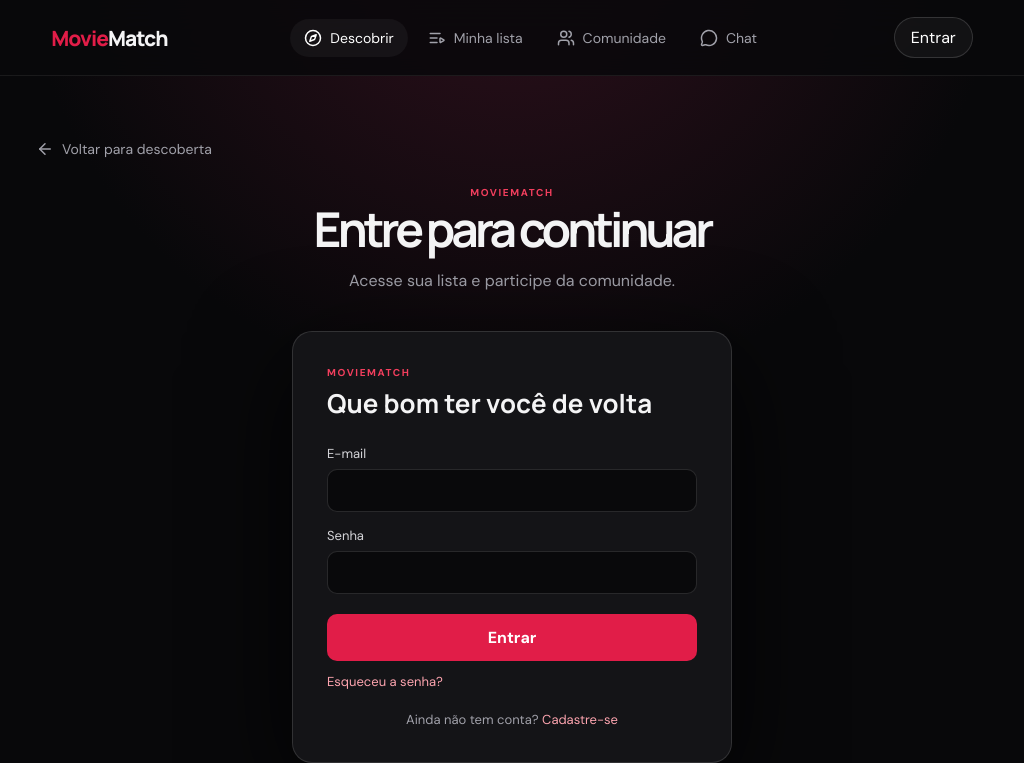
Test case: MovieMatch home › returns to the requested same-site page after login
This screenshot has width=1024, height=763.
Type "alice@example.com" into the field labelled "E-mail" at x=512, y=490, box [327,469,697,512]
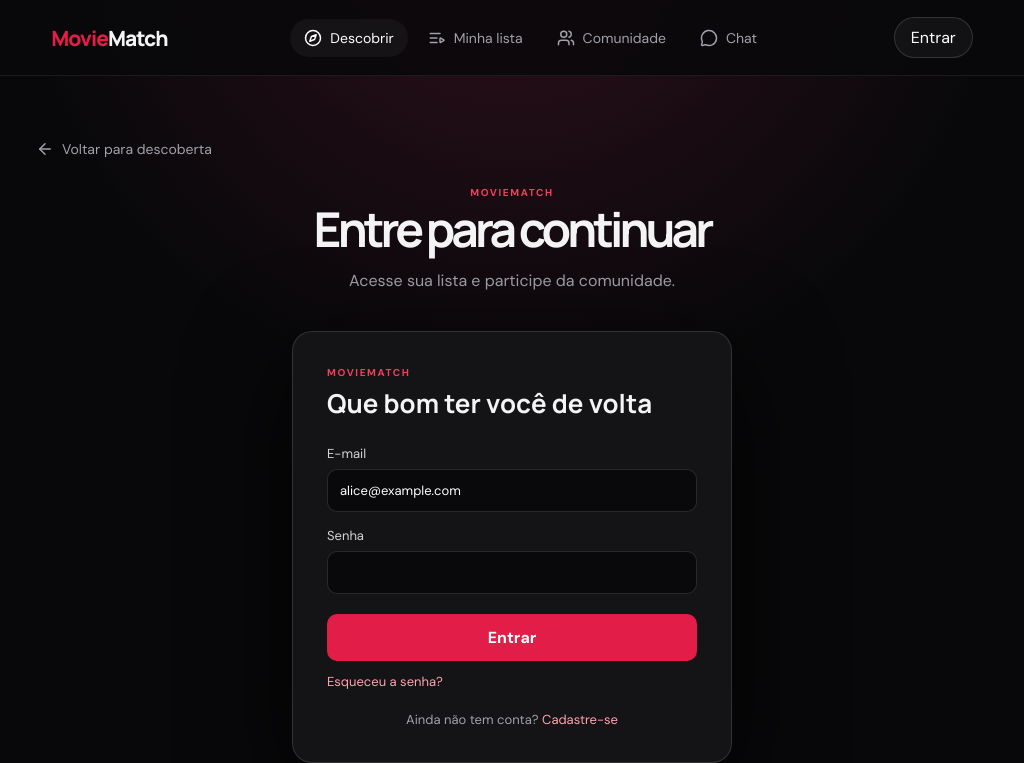
Type "correct-password" into the password field labelled "Senha" at x=512, y=572, box [327,551,697,594]
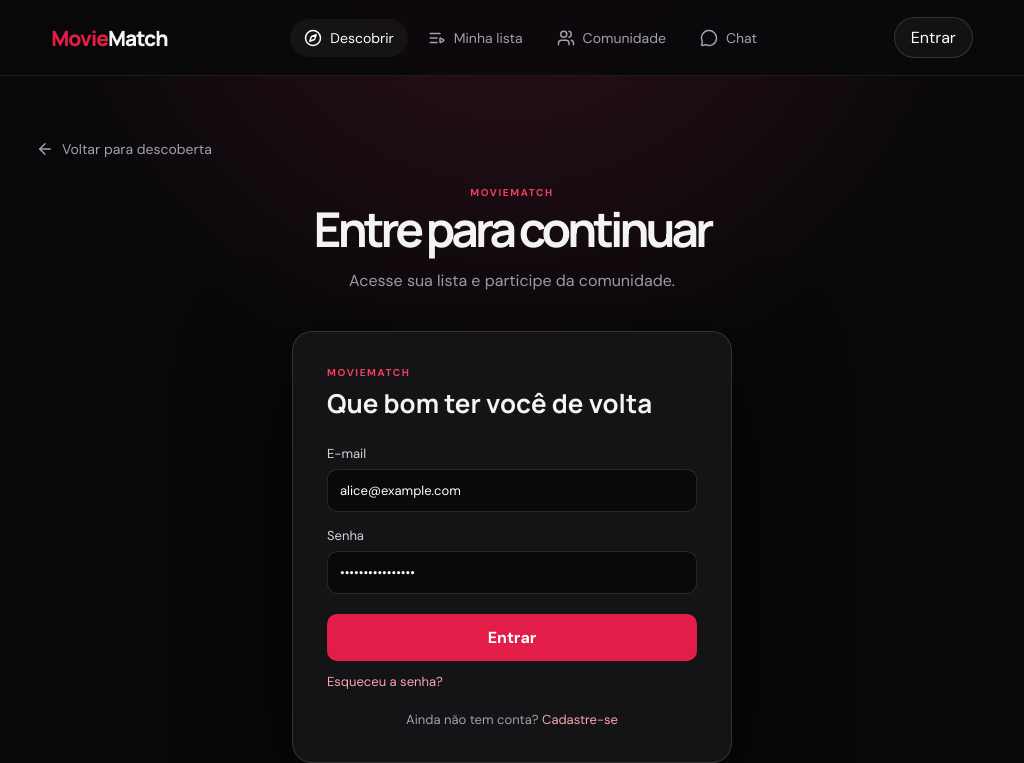
Click the button "Entrar" below "E-mail" at x=512, y=638, box [327,614,697,661]
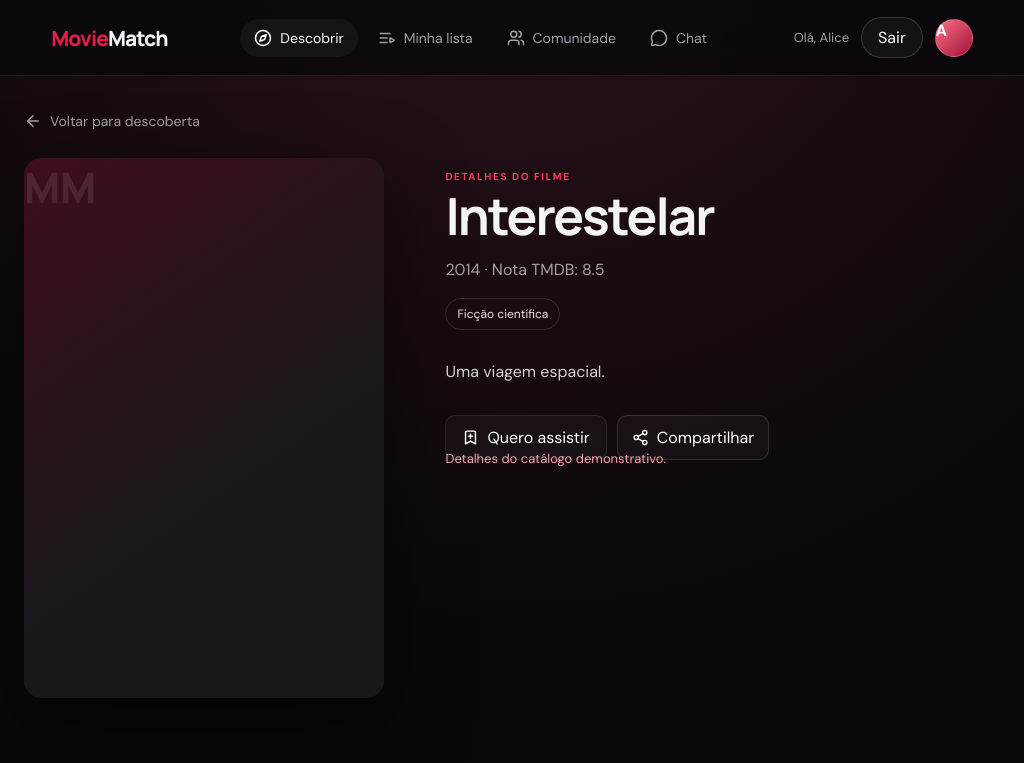
Now the heading "Interestelar" is shown, box [445,180,714,250]
